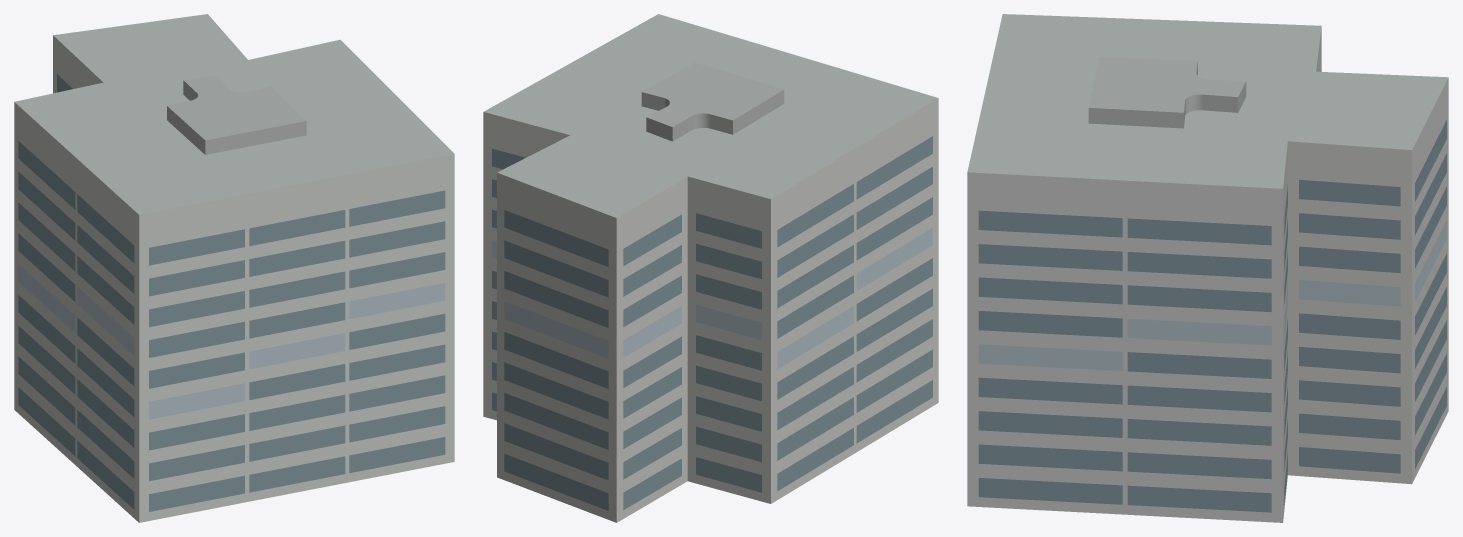
The model's file is named-apt-4ea7a0cf-ca37-406f-8600-c3a0f4be90c4.glb.
3 views of the same model, side by side, from view 1: azimuth 30°, elevation 25°; view 2: azimuth 150°, elevation 25°; view 3: azimuth 270°, elevation 25° (orthographic). The views are drawn at different scales.
Visible parts, largest first — view 1: named-apt-4ea7a0cf-ca37-406f-8600-c3a0f4be90c4; view 2: named-apt-4ea7a0cf-ca37-406f-8600-c3a0f4be90c4; view 3: named-apt-4ea7a0cf-ca37-406f-8600-c3a0f4be90c4.
Part boxes in pixels (x1,y1,x2,y2): named-apt-4ea7a0cf-ca37-406f-8600-c3a0f4be90c4: [14, 14, 454, 522]; named-apt-4ea7a0cf-ca37-406f-8600-c3a0f4be90c4: [483, 14, 938, 522]; named-apt-4ea7a0cf-ca37-406f-8600-c3a0f4be90c4: [967, 14, 1448, 522].
Size of the model in its own units: 30.04 by 28 by 34.92.
